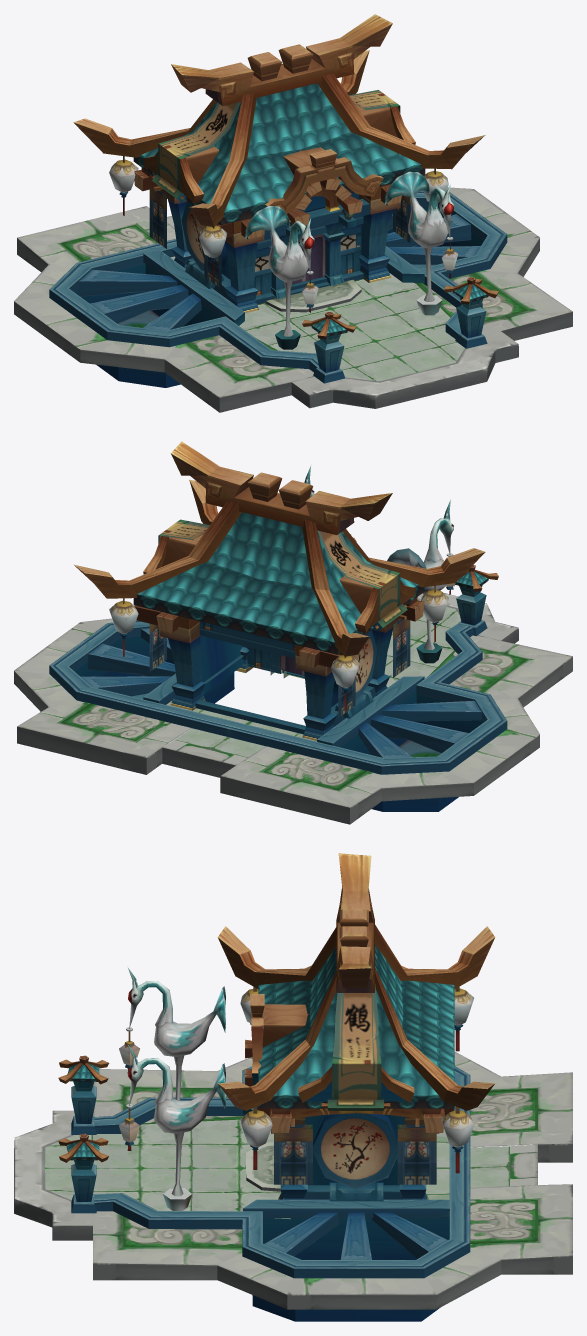
Rendered from house8.FBX.
3 renders of one model, top to bottom at view 1: azimuth 30°, elevation 25°; view 2: azimuth 150°, elevation 25°; view 3: azimuth 270°, elevation 25°, orthographic. The views are drawn at different scales.
Visible parts, largest first — view 1: xyz_xianheju_01, Object01; view 2: xyz_xianheju_01, Object01; view 3: xyz_xianheju_01, Object01.
Part boxes in pixels (left/top/right/bottom): xyz_xianheju_01: left=14, top=14, right=572, bottom=412; Object01: left=149, top=188, right=410, bottom=288; xyz_xianheju_01: left=14, top=441, right=572, bottom=824; Object01: left=149, top=619, right=410, bottom=717; xyz_xianheju_01: left=14, top=853, right=572, bottom=1321; Object01: left=274, top=1124, right=436, bottom=1184.
Size of the model in its own units: 347 by 196 by 324.
2 materials, 2 textured.
